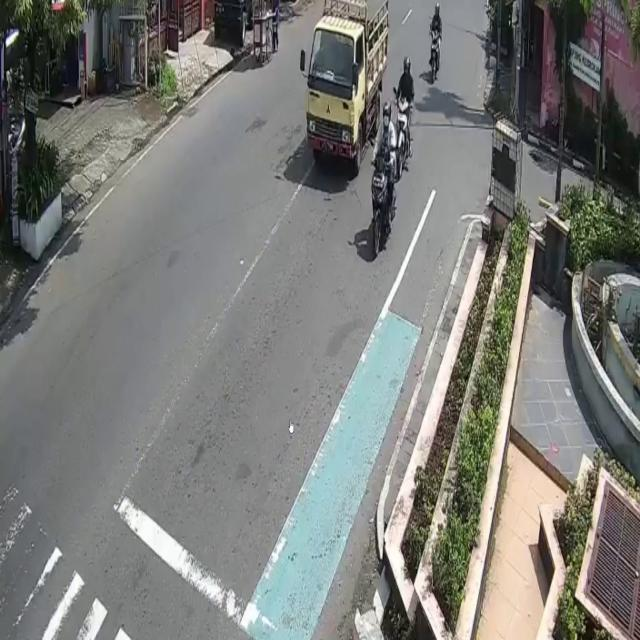motorbike: (369, 151, 395, 256), (394, 95, 412, 177)
truck: (308, 17, 388, 177)
